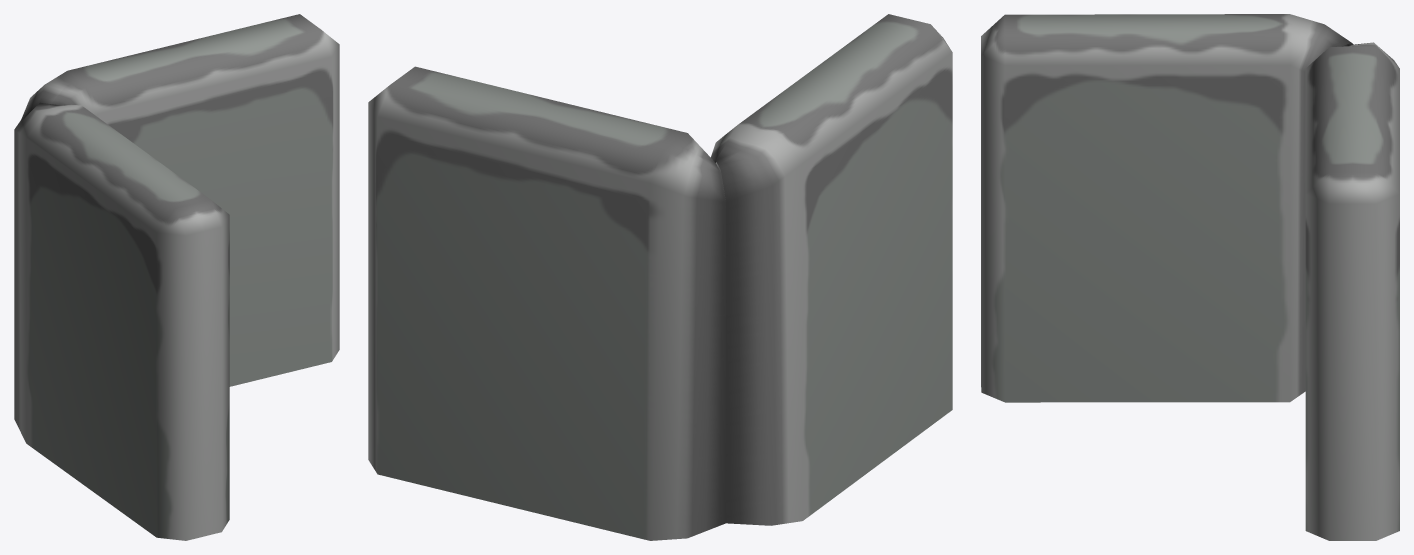
File: mod_med_maze_wall_b_corn_02.fbx
3 renders of one model, left to right at view 1: azimuth 30°, elevation 25°; view 2: azimuth 150°, elevation 25°; view 3: azimuth 270°, elevation 25°, orthographic. The views are drawn at different scales.
Parts seen in each view (by area): view 1: mod_med_maze_wall_b_corn_02; view 2: mod_med_maze_wall_b_corn_02; view 3: mod_med_maze_wall_b_corn_02.
Part boxes in pixels (x1,y1,x2,y2): mod_med_maze_wall_b_corn_02: (14, 14, 339, 540); mod_med_maze_wall_b_corn_02: (368, 14, 952, 540); mod_med_maze_wall_b_corn_02: (981, 14, 1399, 540).
Bounding box in the file's own units: 12.46 × 11.66 × 12.35.
